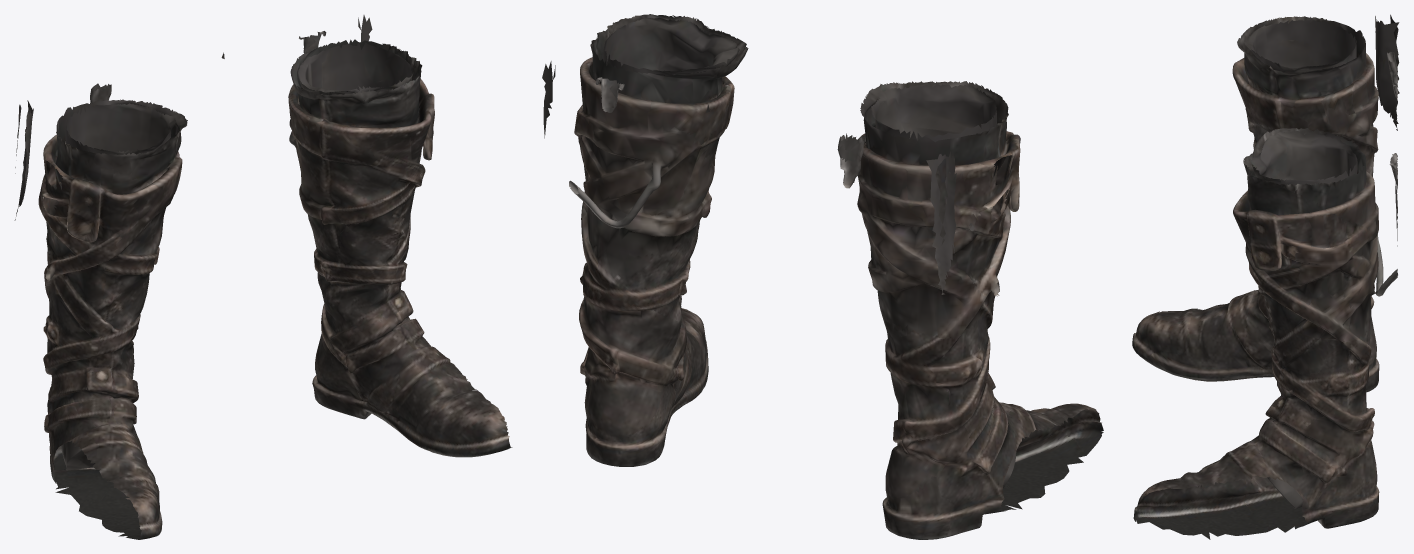
Rendered from leather_boots.glb.
The picture shows the model from 3 angles, left to right: view 1: azimuth 30°, elevation 25°; view 2: azimuth 150°, elevation 25°; view 3: azimuth 270°, elevation 25°; orthographic projection. The views are drawn at different scales.
Size of the model in its own units: 0.5241 by 0.4614 by 0.3179.
Materials: 1 (1 with a texture image).
